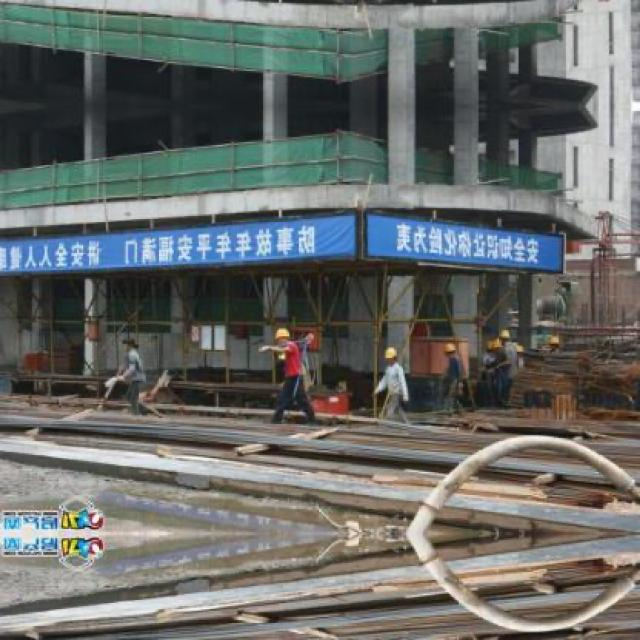con casco: (260, 315, 312, 364), (438, 332, 472, 368), (374, 342, 409, 369)
